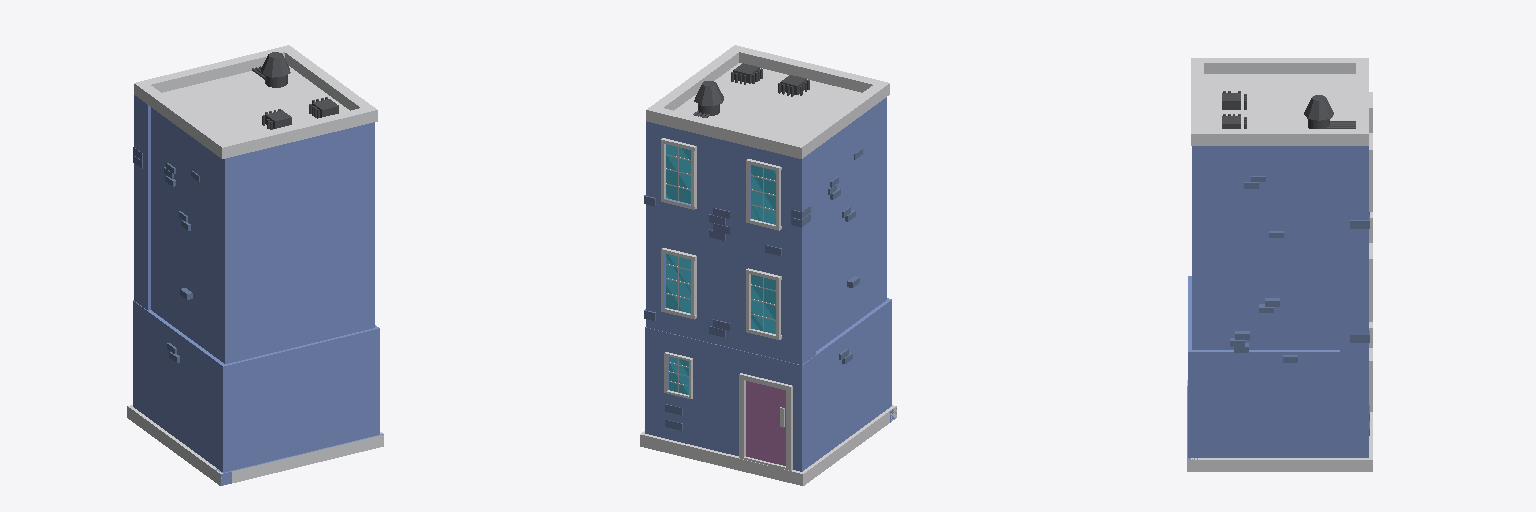
The picture shows the model from 3 angles: view 1: azimuth 30°, elevation 25°; view 2: azimuth 150°, elevation 25°; view 3: azimuth 270°, elevation 25°; orthographic projection.
Visible parts, largest first — view 1: Edificio1:Mesh; view 2: Edificio1:Mesh; view 3: Edificio1:Mesh.
Part boxes in pixels (x1,y1,x2,y2): Edificio1:Mesh: (127,45,383,485); Edificio1:Mesh: (640,45,896,485); Edificio1:Mesh: (1187,58,1372,471).
Bounding box in the file's own units: 42.24 × 87.15 × 41.55.
1 materials, 1 textured.